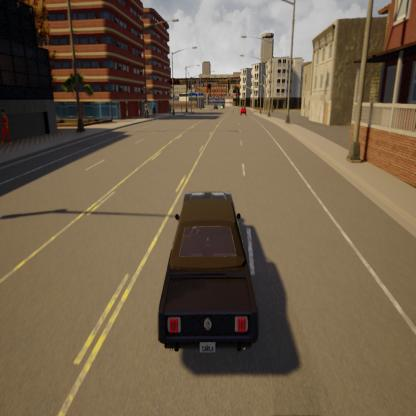Cars: (155, 189, 262, 353)
Pedestrian: (1, 110, 15, 154)
